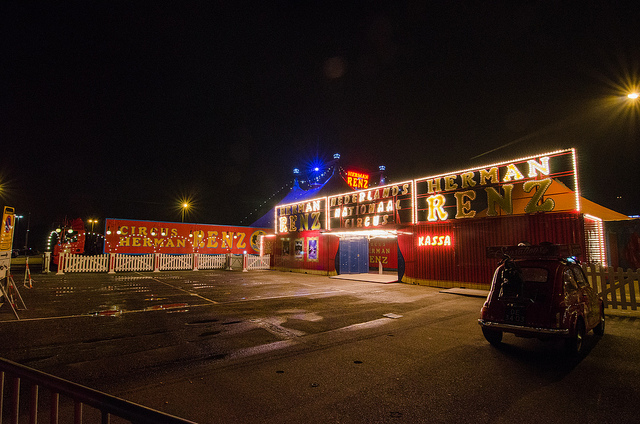car: (473, 239, 611, 360)
